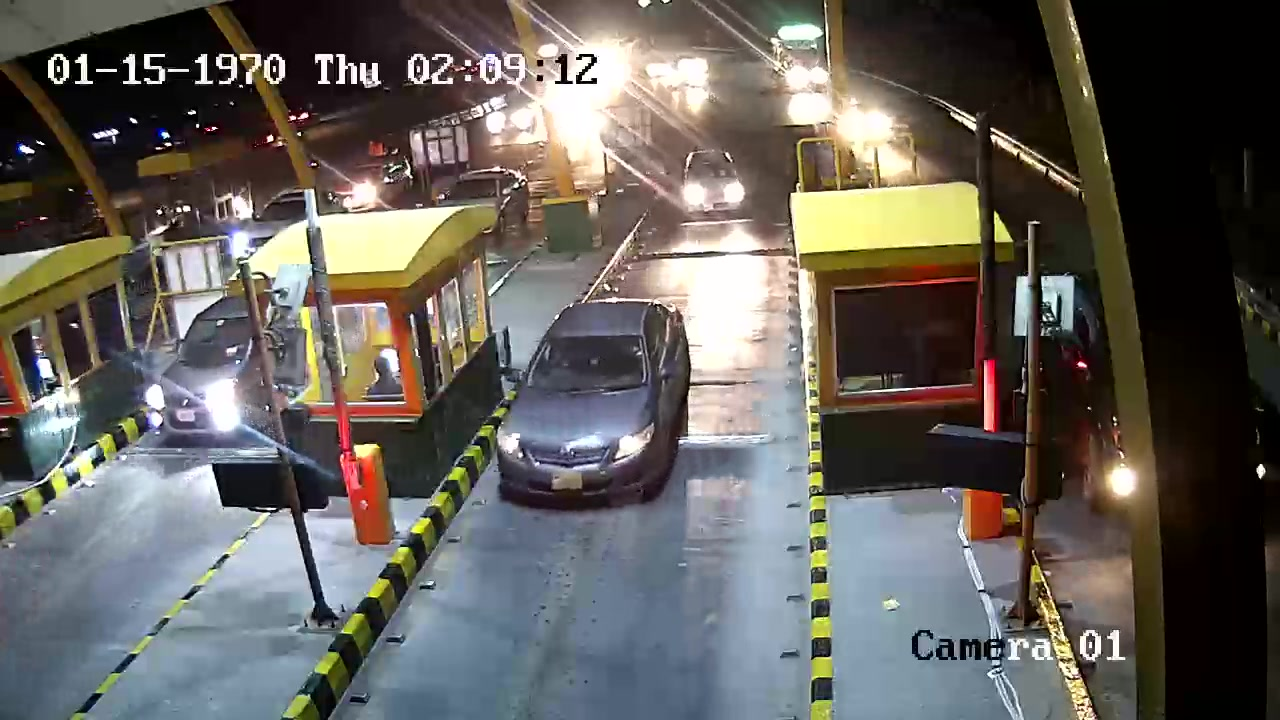F1: (480, 296, 695, 546)
